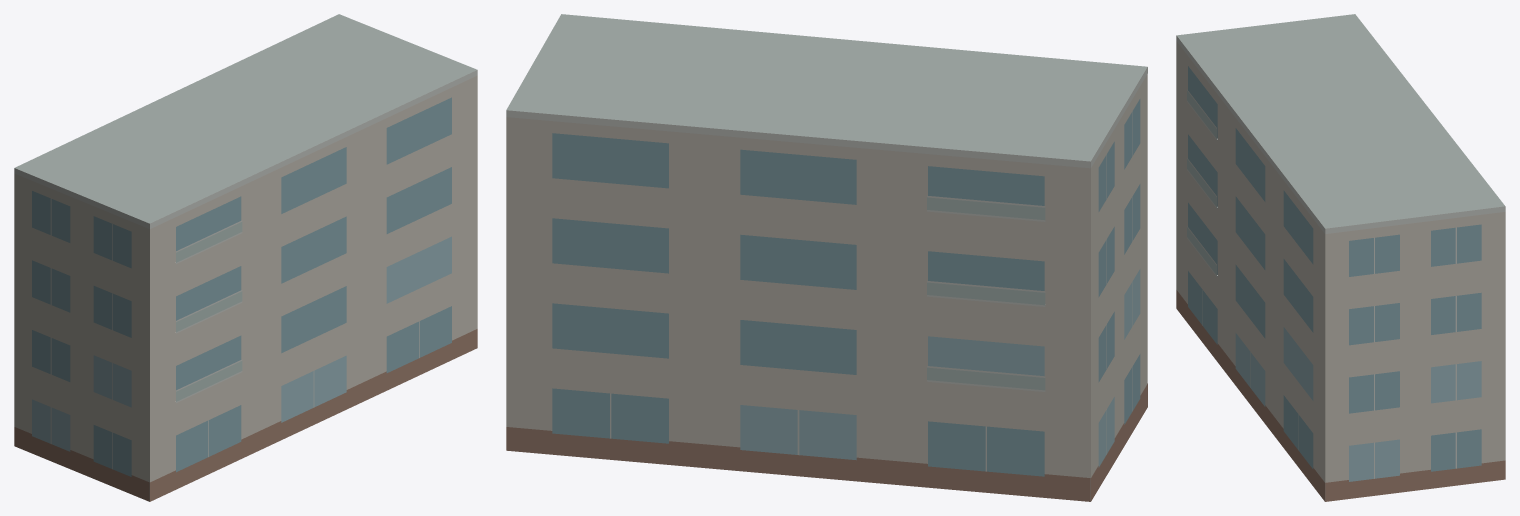
File: survey-upis-32640360.glb
The picture shows the model from 3 angles, left to right: view 1: azimuth 30°, elevation 25°; view 2: azimuth 150°, elevation 25°; view 3: azimuth 270°, elevation 25°; orthographic projection. The views are drawn at different scales.
Visible parts, largest first — view 1: survey-upis-32640360.tmp; view 2: survey-upis-32640360.tmp; view 3: survey-upis-32640360.tmp.
Boxes of the visible parts, box(x1,y1,x2,y2) form: survey-upis-32640360.tmp: box(14, 14, 477, 501); survey-upis-32640360.tmp: box(506, 14, 1147, 501); survey-upis-32640360.tmp: box(1176, 14, 1505, 501).
Size of the model in its own units: 20.58 by 12.2 by 13.33.
